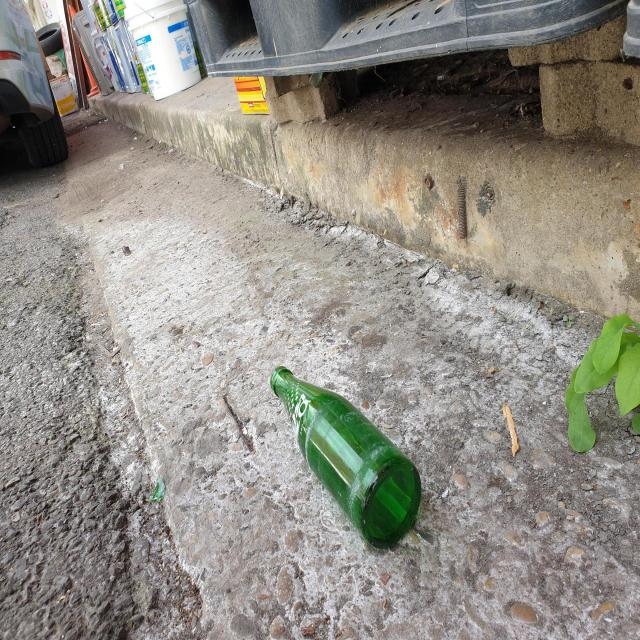glass: (271, 366, 422, 548)
